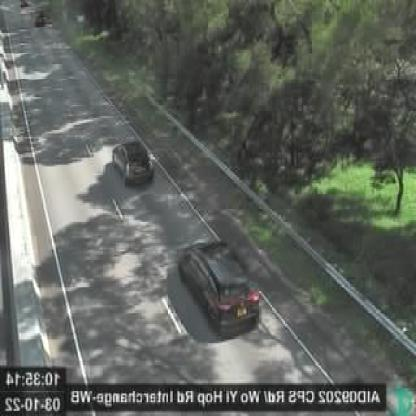Car: (182, 242, 263, 335), (113, 140, 157, 180)
